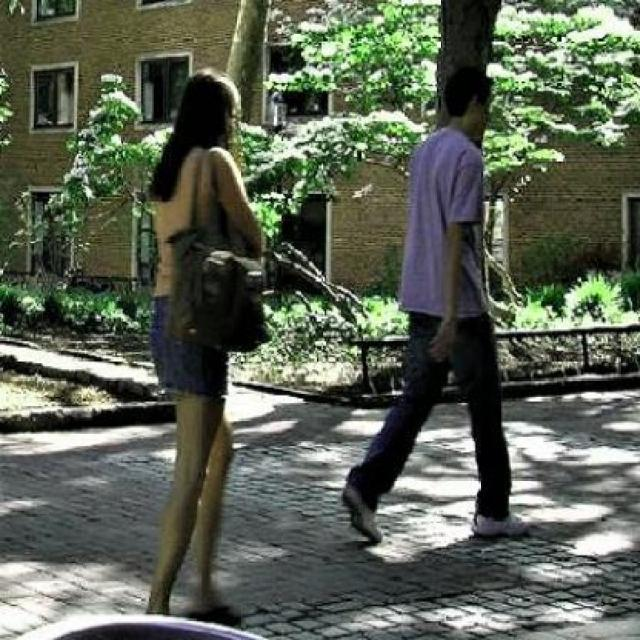Person: (335, 65, 537, 544), (141, 61, 264, 624)
